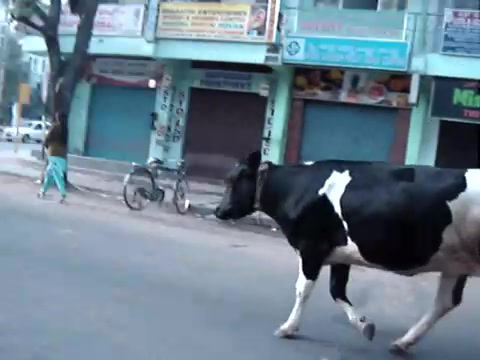cow: (215, 156, 480, 353)
